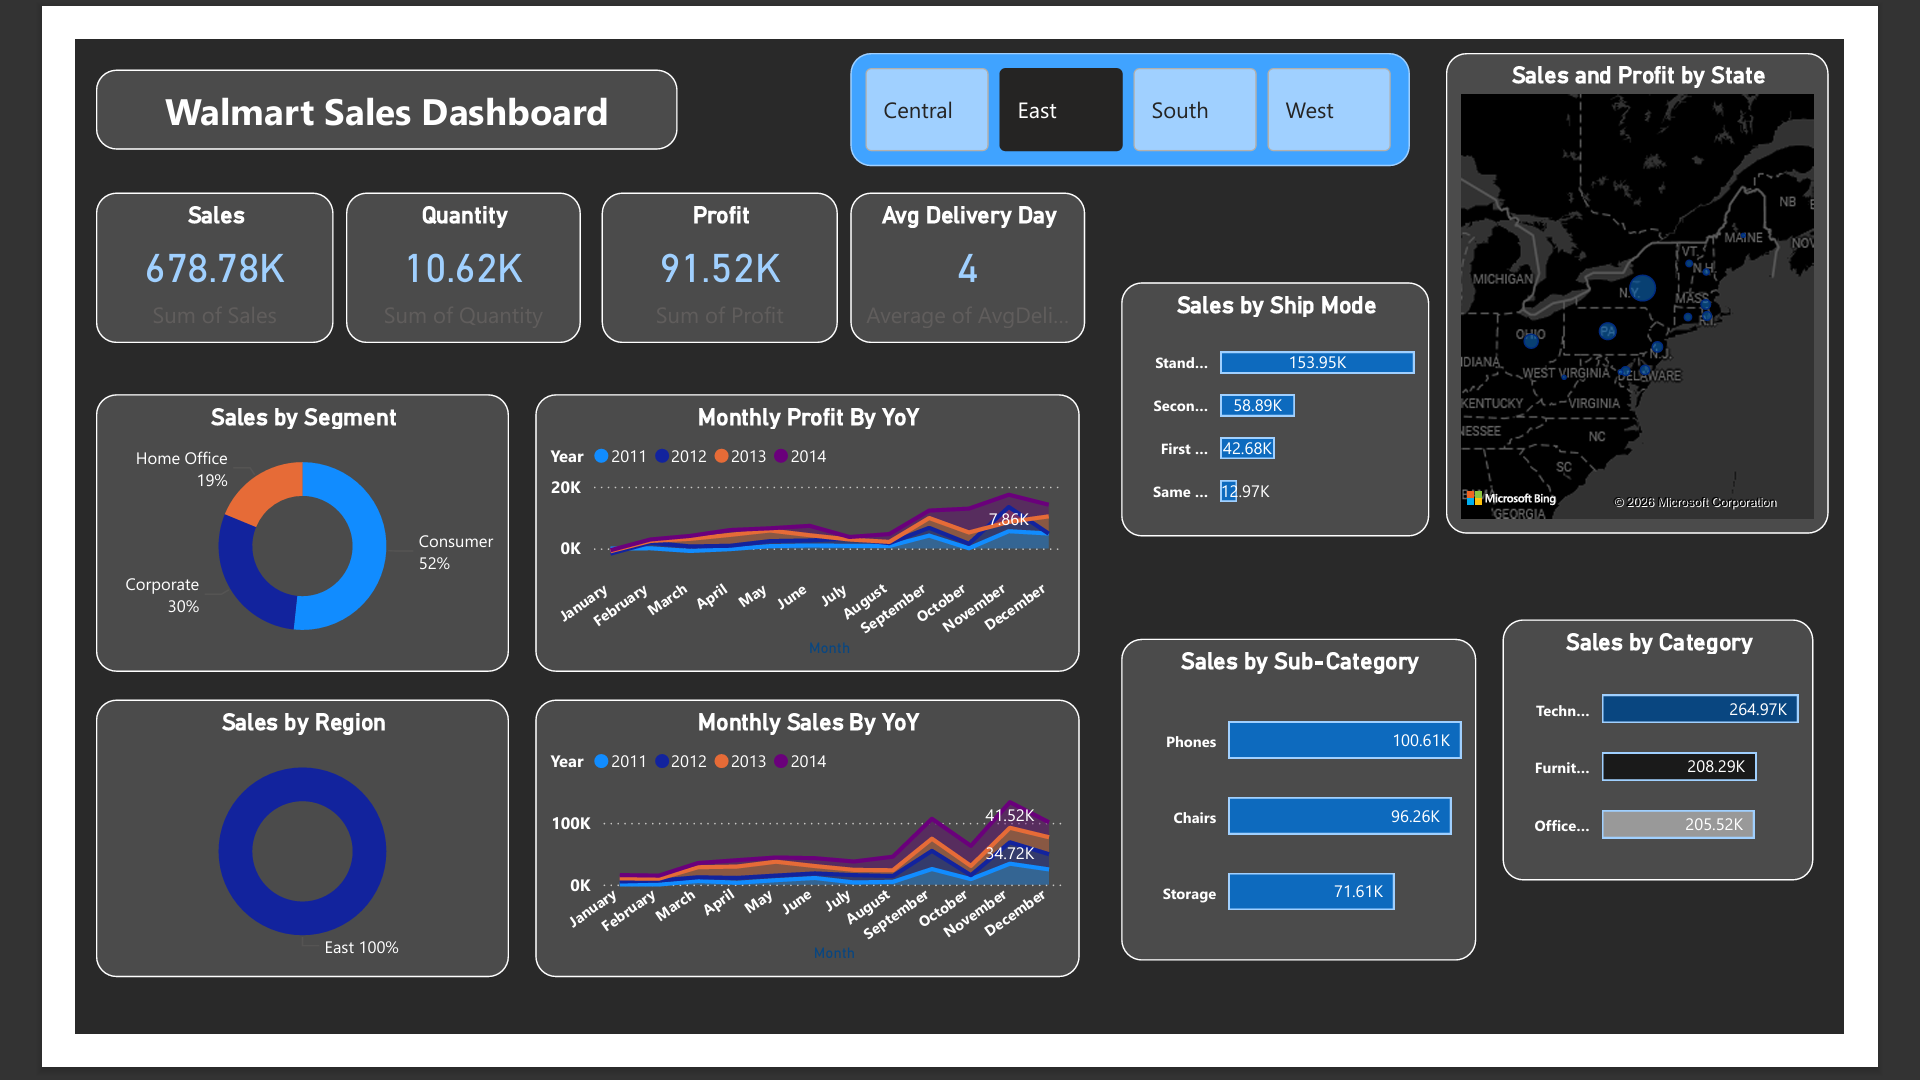

The page's visual inventory and layout, read from the dashboard file:
{"tool":"powerbi","page":{"name":"Page 1","canvas":[1280,720],"ordinal":0},"visuals":[{"type":"clusteredBarChart","title":"Sales by Category","fields":{"Category":["Superstore.Category"],"Y":["Sum(Superstore.Sales)"]},"box":[1033.3,419.9,225,189.4],"z":0},{"type":"clusteredBarChart","title":"Sales by Sub-Category","fields":{"Category":["Superstore.Sub-Category"],"Y":["Sum(Superstore.Sales)"]},"box":[757.5,433.6,256.6,233.3],"z":1000},{"type":"clusteredBarChart","title":"Sales by Ship Mode","fields":{"Category":["Superstore.Ship Mode"],"Y":["Sum(Superstore.Sales)"]},"box":[757.5,175.6,222.3,183.9],"z":2000},{"type":"stackedAreaChart","title":"Monthly Sales By YoY","fields":{"Y":["Sum(Superstore.Sales)"],"Category":["Superstore.Order Date.Variation.Date Hierarchy.Month"],"Series":["Superstore.Order Date.Variation.Date Hierarchy.Year"]},"box":[333.4,477.5,393.8,201.7],"z":3000},{"type":"stackedAreaChart","title":"Monthly Profit By YoY","fields":{"Category":["Superstore.Order Date.Variation.Date Hierarchy.Month"],"Series":["Superstore.Order Date.Variation.Date Hierarchy.Year"],"Y":["Sum(Superstore.Profit)"]},"box":[333.4,256.6,393.8,201.7],"z":4000},{"type":"map","title":"Sales and Profit by State","fields":{"Category":["Superstore.State"],"Size":["Sum(Superstore.Sales)"]},"box":[992.1,9.6,277.2,348.5],"z":5000},{"type":"donutChart","title":"Sales by Segment","fields":{"Category":["Superstore.Segment"],"Y":["Sum(Superstore.Sales)"]},"box":[15.1,256.6,299.1,201.7],"z":6000},{"type":"donutChart","title":"Sales by Region","fields":{"Y":["Sum(Superstore.Sales)"],"Category":["Superstore.Region"]},"box":[15.1,477.5,299.1,201.7],"z":7000},{"type":"advancedSlicerVisual","fields":{"Values":["Superstore.Region"]},"box":[561.2,9.6,404.8,82.3],"z":8000},{"type":"textbox","box":[15.1,22,421.3,57.6],"z":9000},{"type":"card","title":"Sales","fields":{"Values":["Sum(Superstore.Sales)"]},"box":[15.1,111.1,171.5,108.4],"z":10000},{"type":"card","title":"Quantity","fields":{"Values":["Sum(Superstore.Quantity)"]},"box":[196.2,111.1,170.2,108.4],"z":11000},{"type":"card","title":"Profit","fields":{"Values":["Sum(Superstore.Profit)"]},"box":[381.5,111.1,170.2,108.4],"z":12000},{"type":"card","title":"Avg Delivery Day","fields":{"Values":["Avg(Superstore.AvgDelivery)"]},"box":[561.2,111.1,170.2,108.4],"z":13000}]}

Visuals, with their boxes in screenshot pixels (x1, y1, x2, y2), scaled from the page's 1280x720 canvas onto the 1920x1080 screenshot:
"Sales by Category" clusteredBarChart: rect(1550, 630, 1887, 914)
"Sales by Sub-Category" clusteredBarChart: rect(1136, 650, 1521, 1000)
"Sales by Ship Mode" clusteredBarChart: rect(1136, 263, 1470, 539)
"Monthly Sales By YoY" stackedAreaChart: rect(500, 716, 1091, 1019)
"Monthly Profit By YoY" stackedAreaChart: rect(500, 385, 1091, 687)
"Sales and Profit by State" map: rect(1488, 14, 1904, 537)
"Sales by Segment" donutChart: rect(23, 385, 471, 687)
"Sales by Region" donutChart: rect(23, 716, 471, 1019)
advancedSlicerVisual - Superstore.Region: rect(842, 14, 1449, 138)
textbox: rect(23, 33, 655, 119)
"Sales" card: rect(23, 167, 280, 329)
"Quantity" card: rect(294, 167, 550, 329)
"Profit" card: rect(572, 167, 828, 329)
"Avg Delivery Day" card: rect(842, 167, 1097, 329)
